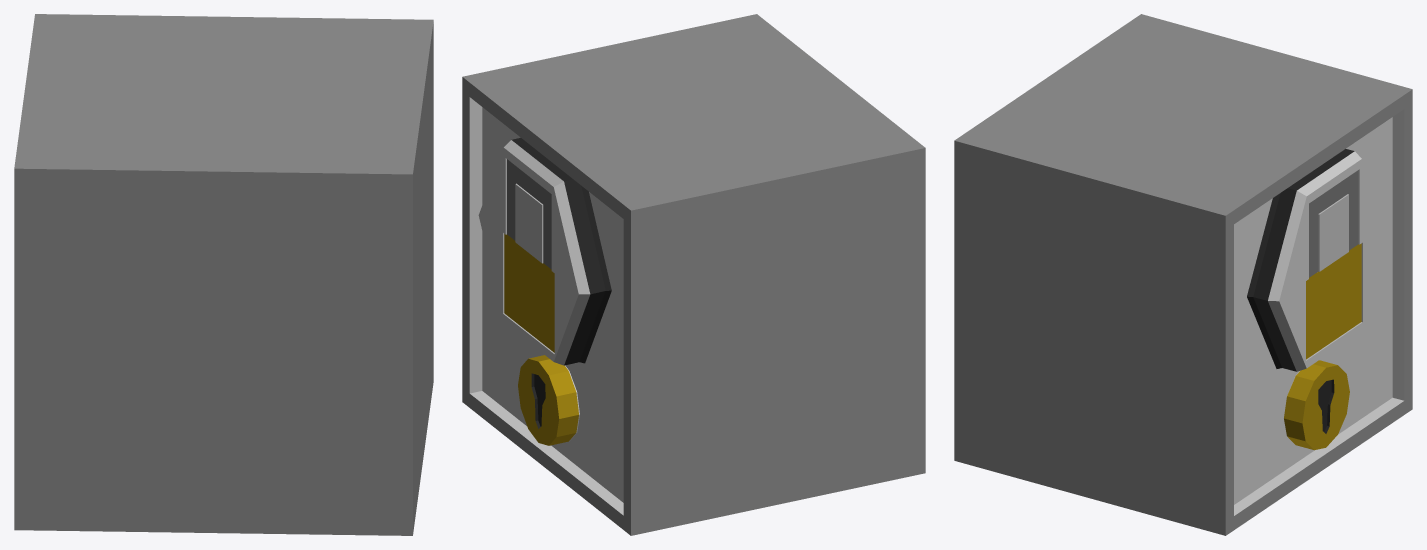
The model's file is Lock.fbx.
3 renders of one model, left to right at view 1: azimuth 30°, elevation 25°; view 2: azimuth 150°, elevation 25°; view 3: azimuth 270°, elevation 25°, orthographic. The views are drawn at different scales.
Visible parts, largest first — view 1: Torus.001; view 2: Torus.001; view 3: Torus.001.
Part boxes in pixels (x1,y1,x2,y2): Torus.001: [14, 14, 433, 535]; Torus.001: [462, 14, 925, 535]; Torus.001: [954, 14, 1412, 535].
Bounding box in the file's own units: 27.05 × 20 × 25.96.
